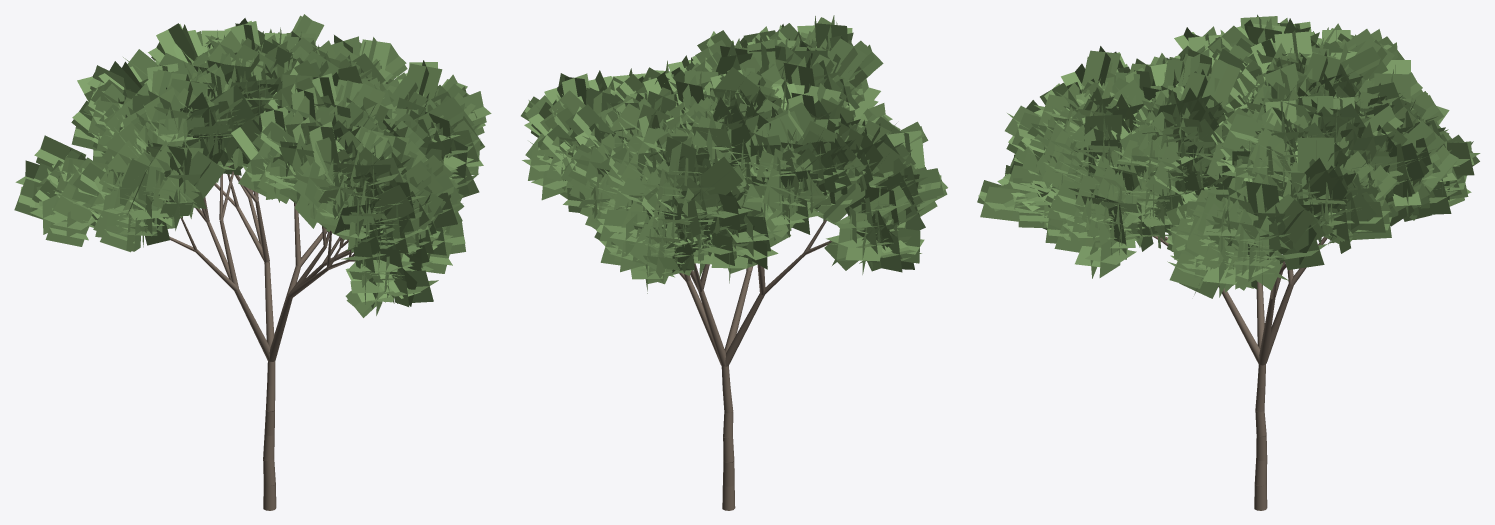
File: oak3d.glb
3 views of the same model, side by side, from view 1: azimuth 30°, elevation 25°; view 2: azimuth 150°, elevation 25°; view 3: azimuth 270°, elevation 25° (orthographic). The views are drawn at different scales.
Visible parts, largest first — view 1: leaves, trunk; view 2: leaves, trunk; view 3: leaves, trunk.
Part boxes in pixels (bbox=[...]): leaves: bbox=[14, 14, 491, 317]; trunk: bbox=[169, 164, 355, 510]; leaves: bbox=[521, 15, 947, 293]; trunk: bbox=[679, 220, 831, 510]; leaves: bbox=[977, 14, 1480, 298]; trunk: bbox=[1152, 236, 1327, 510].
Bounding box in the file's own units: 22.07 × 23.03 × 22.48.
